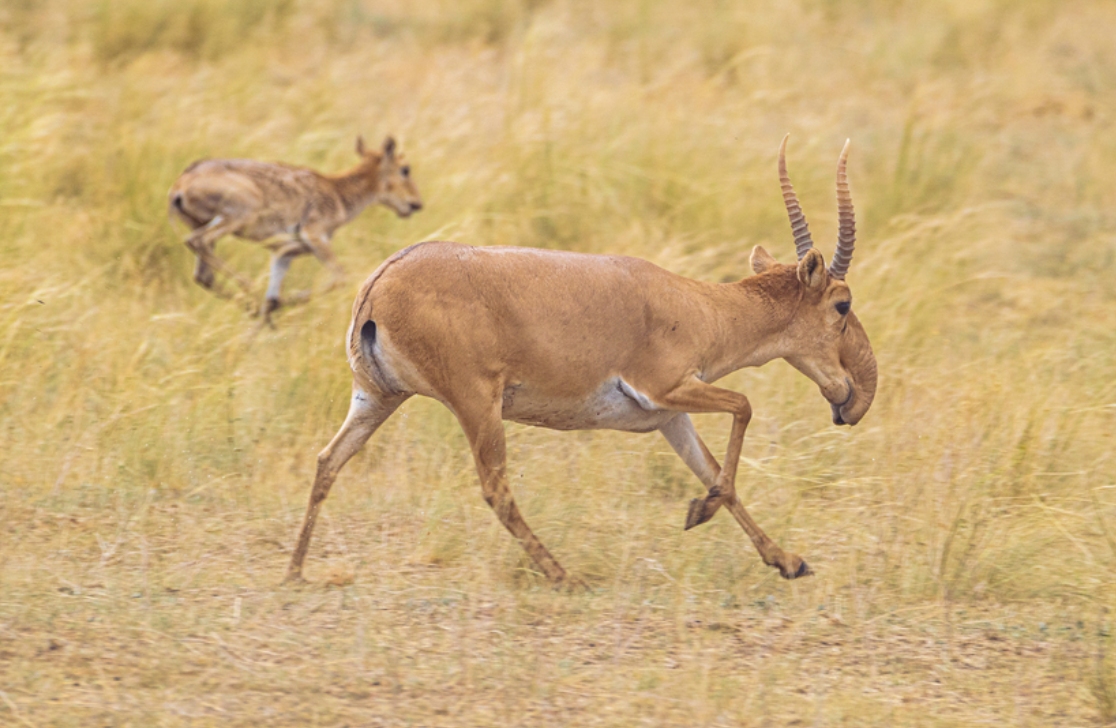saiga: (302, 137, 892, 592)
